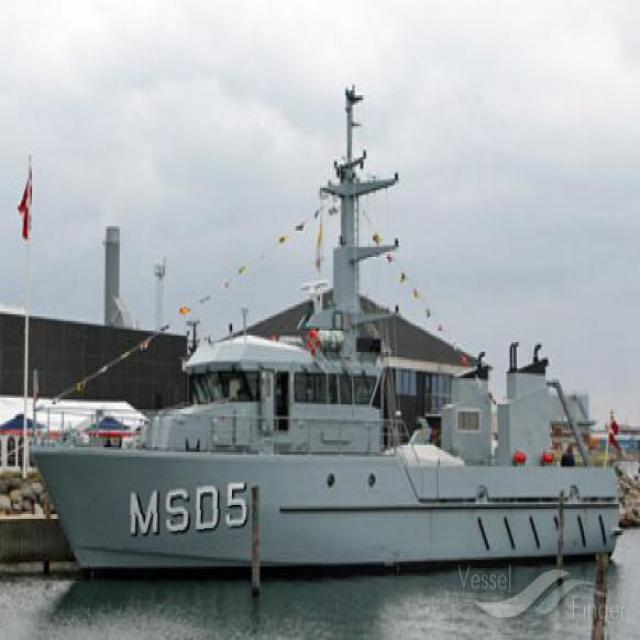OCR: (115, 482, 250, 552)
